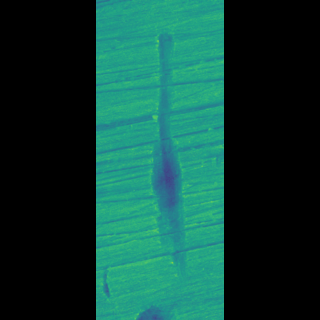Loch: (155, 26, 173, 280)
